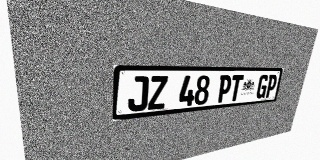4: (178, 75, 197, 107)
8: (193, 75, 211, 105)
G: (255, 75, 269, 99)
J: (127, 76, 149, 112)
P: (216, 75, 232, 103), (264, 74, 278, 98)
T: (228, 75, 244, 102)
Z: (148, 76, 168, 110)
